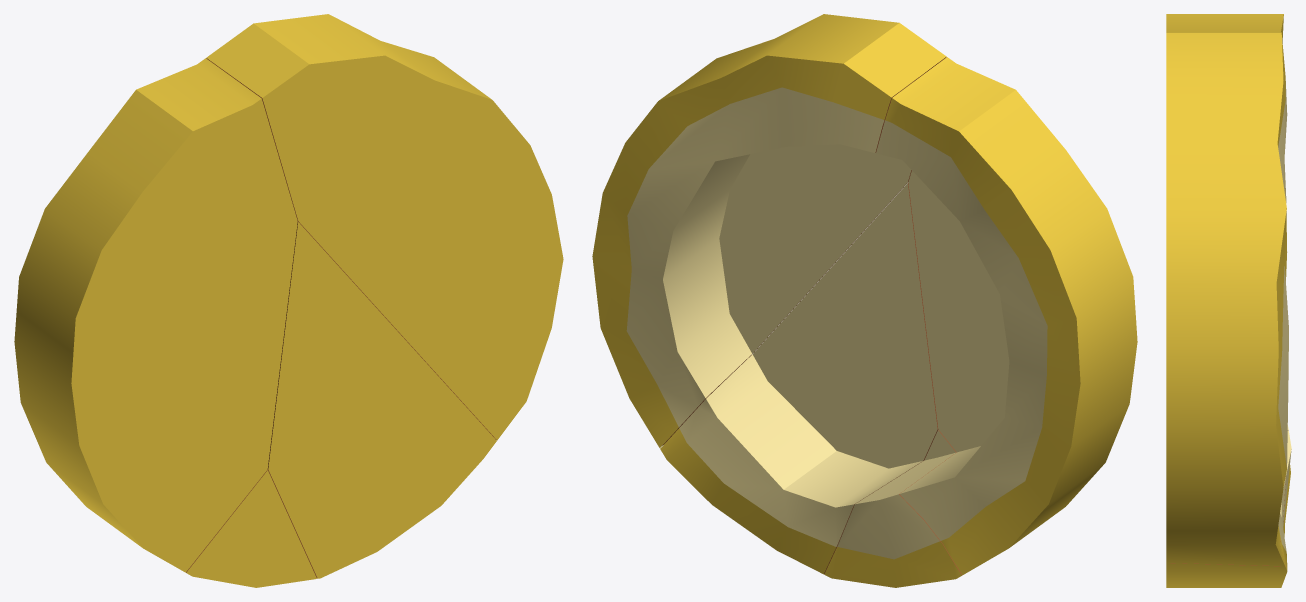
File: Log Layer 1 Pieces.fbx
3 views of the same model, side by side, from view 1: azimuth 30°, elevation 25°; view 2: azimuth 150°, elevation 25°; view 3: azimuth 270°, elevation 25° (orthographic). The views are drawn at different scales.
Parts seen in each view (by area): view 1: Log Layer 1_cell, Log Layer 1_cell.001, Log Layer 1_cell.002, Log Layer 1_cell.003; view 2: Log Layer 1_cell, Log Layer 1_cell.001, Log Layer 1_cell.002, Log Layer 1_cell.003; view 3: Log Layer 1_cell.001, Log Layer 1_cell.002, Log Layer 1_cell, Log Layer 1_cell.003.
Boxes of the visible parts, box(x1,y1,x2,y2) form: Log Layer 1_cell: box(14, 58, 297, 572); Log Layer 1_cell.001: box(206, 14, 563, 440); Log Layer 1_cell.002: box(267, 222, 496, 578); Log Layer 1_cell.003: box(186, 470, 316, 587); Log Layer 1_cell: box(876, 57, 1137, 574); Log Layer 1_cell.001: box(592, 14, 946, 447); Log Layer 1_cell.002: box(660, 183, 938, 574); Log Layer 1_cell.003: box(824, 430, 962, 587); Log Layer 1_cell.001: box(1166, 32, 1288, 566); Log Layer 1_cell.002: box(1166, 477, 1287, 587); Log Layer 1_cell: box(1166, 14, 1288, 430); Log Layer 1_cell.003: box(1283, 430, 1291, 536).
Bounding box in the file's own units: 2 × 2.01 × 0.4282.
